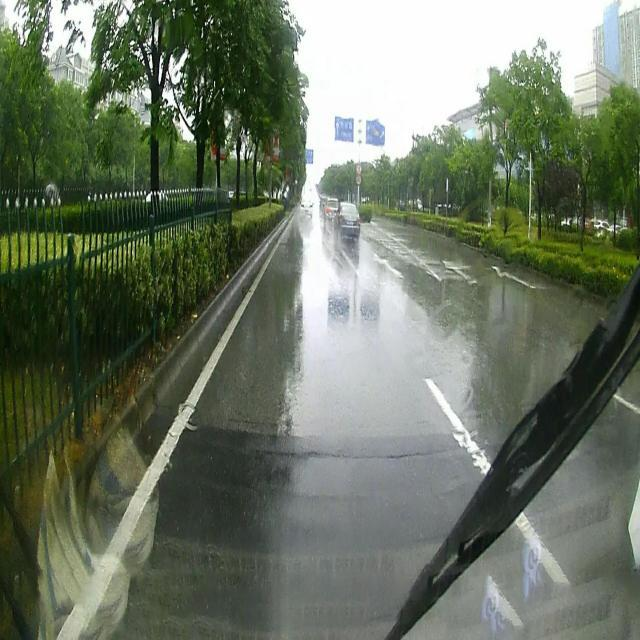car: (338, 203, 360, 241), (324, 197, 340, 224), (300, 197, 313, 216)
